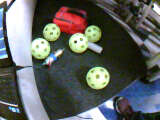Ball: (86, 66, 111, 90), (67, 31, 88, 53), (31, 37, 50, 59), (40, 21, 60, 41), (83, 25, 104, 43)
